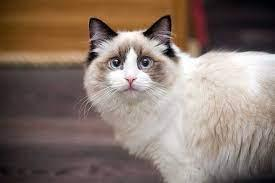ragdoll: (83, 10, 182, 114)
